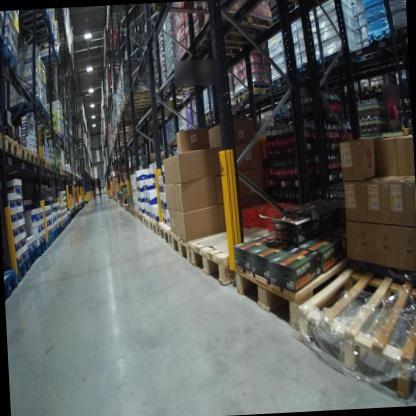pallet: (291, 245, 416, 406), (230, 240, 351, 338), (186, 215, 291, 291), (203, 8, 273, 64), (171, 221, 223, 265), (3, 96, 49, 127), (318, 46, 358, 80), (119, 86, 162, 116), (14, 245, 39, 290), (0, 42, 25, 83), (363, 30, 394, 60), (242, 84, 277, 108), (11, 17, 55, 36), (15, 32, 57, 47), (3, 134, 22, 164), (4, 268, 19, 304), (159, 214, 173, 250), (16, 138, 32, 166), (31, 238, 48, 258), (352, 81, 370, 98), (234, 89, 246, 112), (202, 111, 220, 126), (149, 216, 162, 236), (45, 127, 61, 143), (370, 78, 385, 94), (45, 228, 55, 249), (39, 149, 49, 169), (29, 148, 40, 166), (143, 210, 151, 233), (56, 133, 66, 149), (44, 154, 52, 173), (48, 163, 57, 178), (134, 207, 140, 228), (55, 224, 62, 239), (51, 228, 59, 241), (140, 209, 145, 227), (0, 126, 3, 156), (60, 221, 68, 232), (129, 208, 134, 217)
